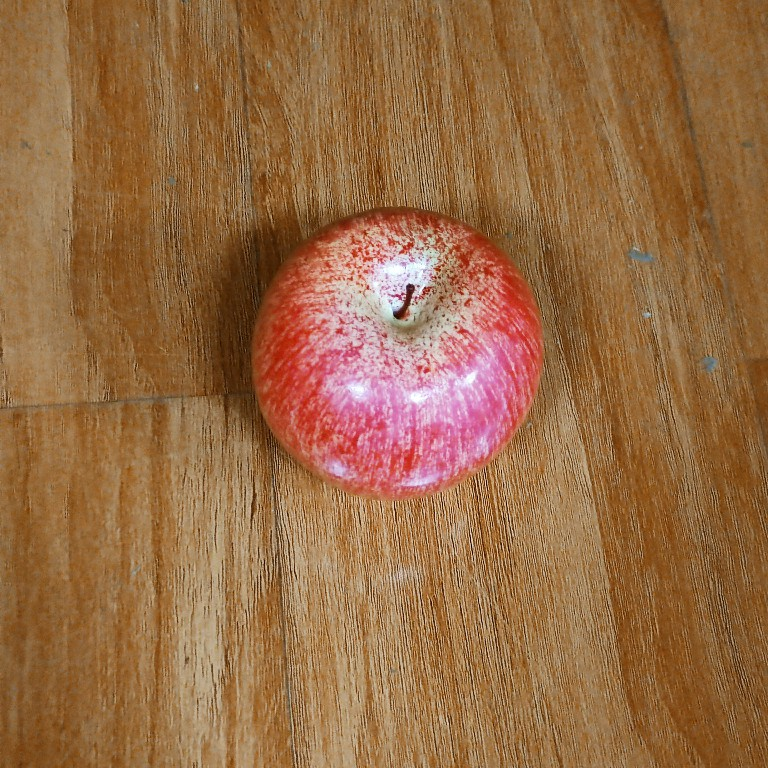fruit_apple: (245, 202, 551, 502)
